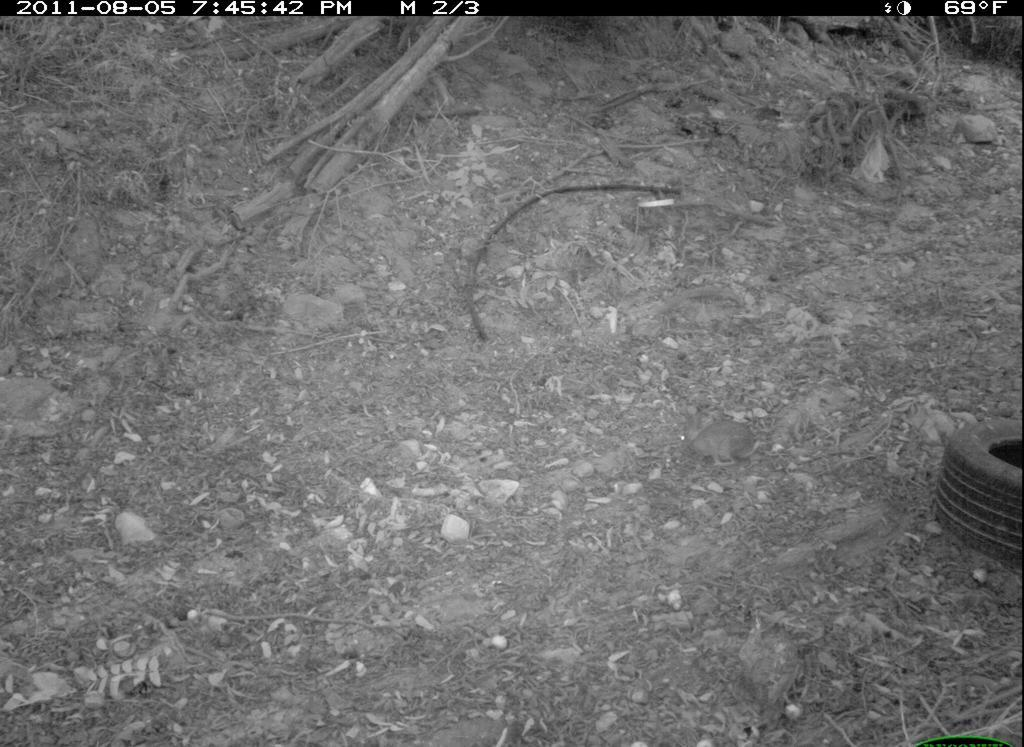rabbit: (673, 409, 786, 474)
